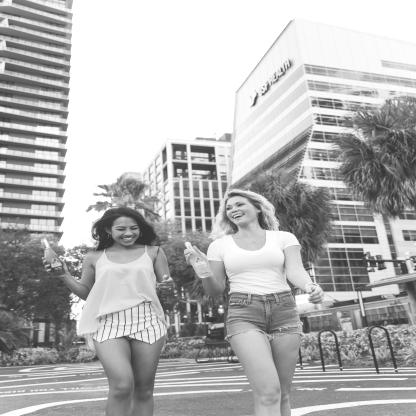dress: (206, 226, 309, 300)
jacket: (213, 286, 314, 350), (92, 244, 167, 322), (88, 299, 174, 346)
